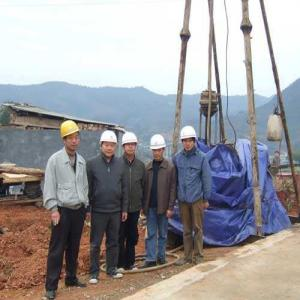white: (99, 129, 118, 159), (149, 133, 168, 163), (180, 126, 198, 153), (122, 131, 139, 158)
yellow: (61, 120, 82, 154)
